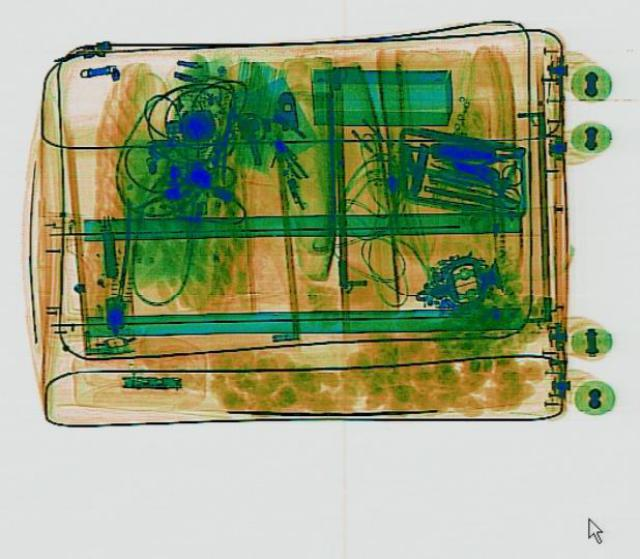Scissors: (436, 149, 532, 209)
